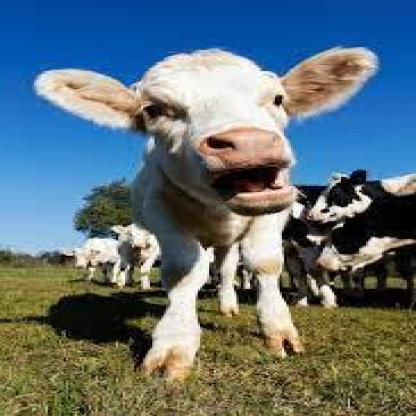cow: (35, 45, 381, 380), (285, 186, 338, 312), (311, 215, 416, 277), (302, 168, 416, 224), (112, 223, 162, 291), (63, 236, 121, 284)
